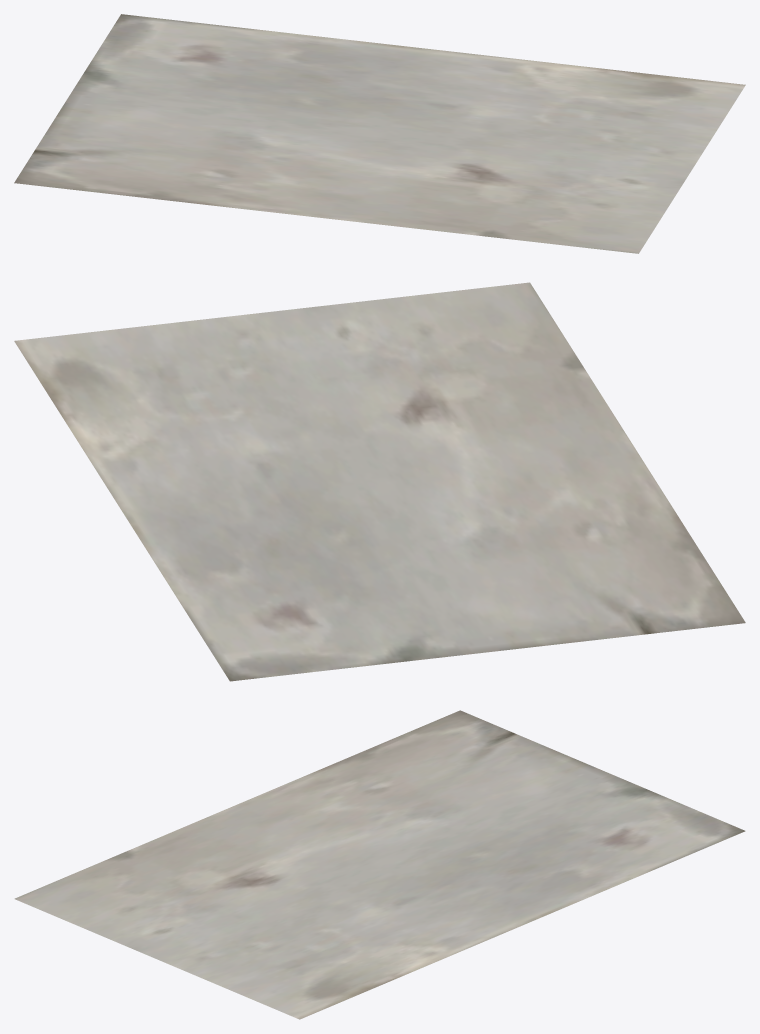
File: stormwind_275.fbx
3 views of the same model, one above another, from view 1: azimuth 30°, elevation 25°; view 2: azimuth 150°, elevation 25°; view 3: azimuth 270°, elevation 25° (orthographic). The views are drawn at different scales.
Parts seen in each view (by area): view 1: stormwind_275_5; view 2: stormwind_275_5; view 3: stormwind_275_5.
Boxes of the visible parts, <box> form: stormwind_275_5: <box>14,14,745,253</box>; stormwind_275_5: <box>14,282,745,681</box>; stormwind_275_5: <box>14,710,745,1019</box>.
Bounding box in the file's own units: 6.44 × 7.63e-06 × 6.44.
